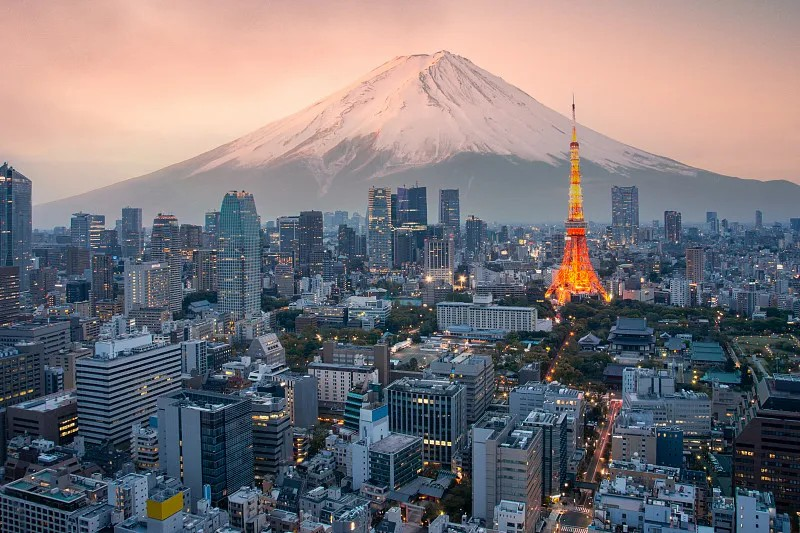Tokyo: (545, 92, 610, 306)
